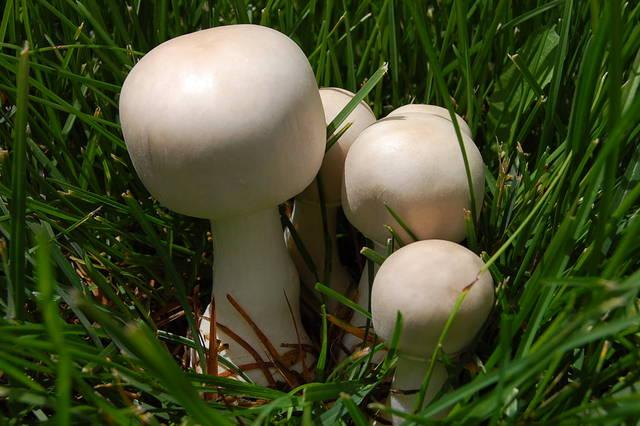poisonous_mushroom: (117, 22, 328, 396), (306, 73, 483, 393), (369, 237, 495, 424)
